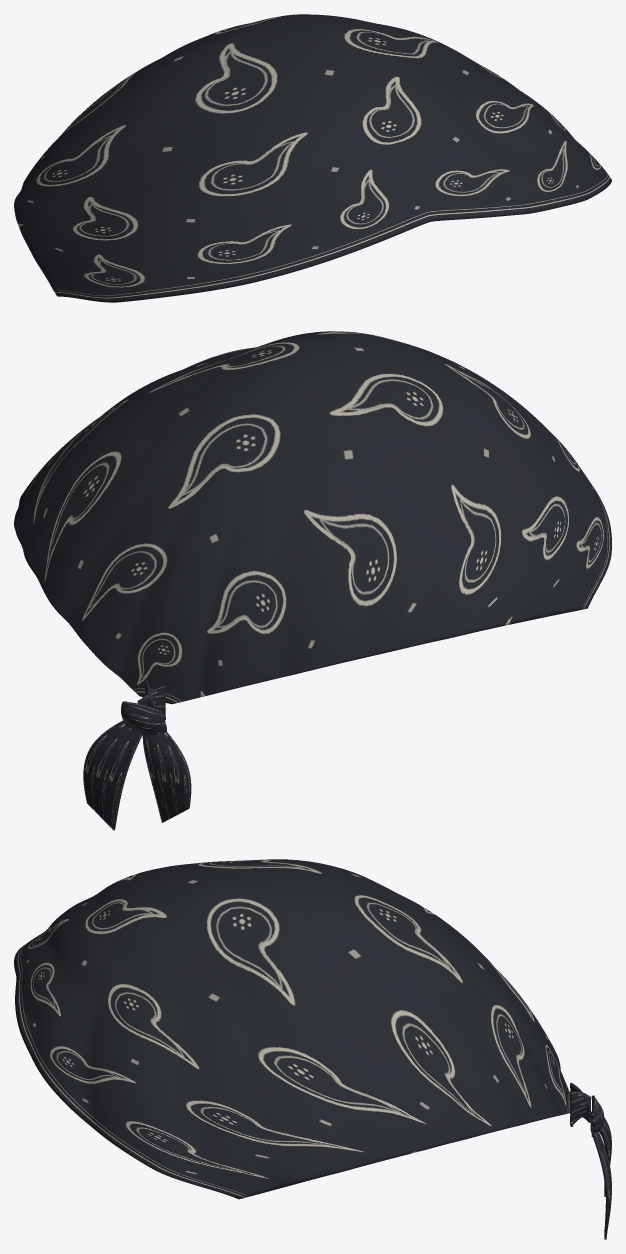
File: Feminine-side-sweep-bandana.glb
3 renders of one model, top to bottom at view 1: azimuth 30°, elevation 25°; view 2: azimuth 150°, elevation 25°; view 3: azimuth 270°, elevation 25°, orthographic.
Parts seen in each view (by area): view 1: Bandana / triangular crown scarf; view 2: Bandana / triangular crown scarf, Bandana / hemmed tail 1, Bandana / hemmed tail -1, Bandana / rounded knot fold; view 3: Bandana / triangular crown scarf, Bandana / hemmed tail 1.
Boxes of the visible parts, <box> form: Bandana / triangular crown scarf: <box>14,14,611,302</box>; Bandana / triangular crown scarf: <box>14,331,611,704</box>; Bandana / hemmed tail 1: <box>83,720,142,830</box>; Bandana / hemmed tail -1: <box>142,732,191,822</box>; Bandana / rounded knot fold: <box>121,701,166,735</box>; Bandana / triangular crown scarf: <box>14,859,571,1199</box>; Bandana / hemmed tail 1: <box>590,1120,611,1239</box>.
Bounding box in the file's own units: 0.7564 × 0.4652 × 0.7334.
1 material, 1 textured.
